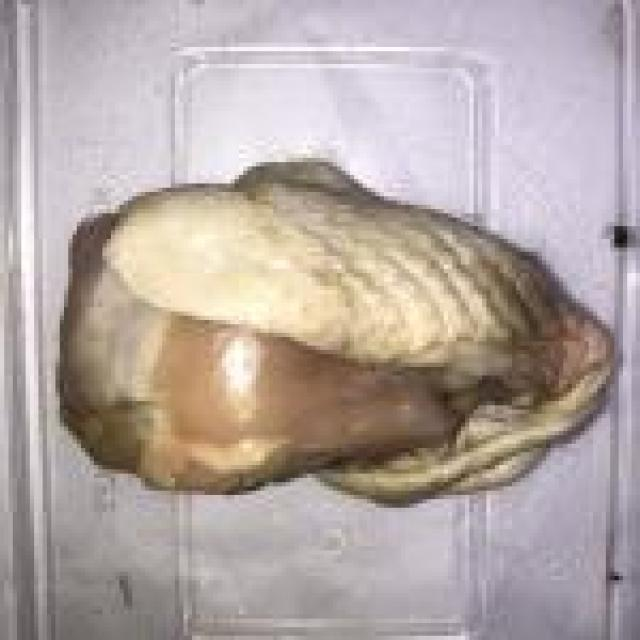breast: (21, 144, 610, 536)
